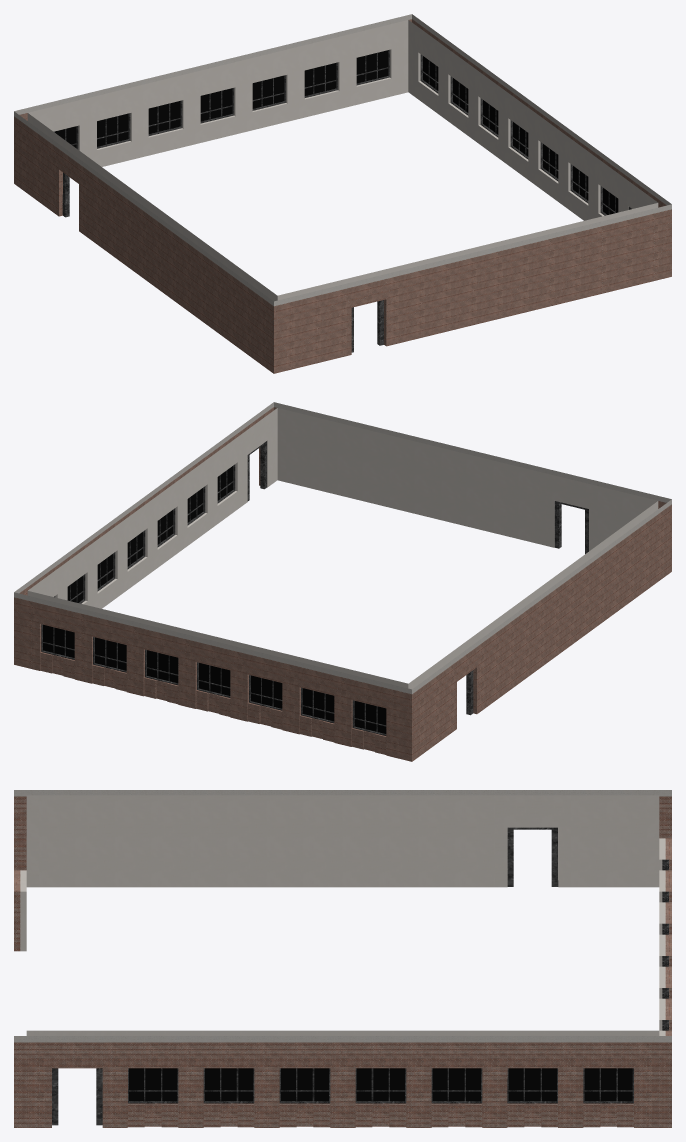
File: BuildingC_Bottom_VarB.fbx
3 renders of one model, top to bottom at view 1: azimuth 30°, elevation 25°; view 2: azimuth 150°, elevation 25°; view 3: azimuth 270°, elevation 25°, orthographic. The views are drawn at different scales.
Parts seen in each view (by area): view 1: BuildingC_Bottom_VarB; view 2: BuildingC_Bottom_VarB; view 3: BuildingC_Bottom_VarB.
Part boxes in pixels (bbox=[...]): BuildingC_Bottom_VarB: bbox=[14, 14, 671, 373]; BuildingC_Bottom_VarB: bbox=[14, 402, 671, 761]; BuildingC_Bottom_VarB: bbox=[14, 790, 671, 1127].
Bounding box in the file's own units: 2300 × 400 × 2600.
